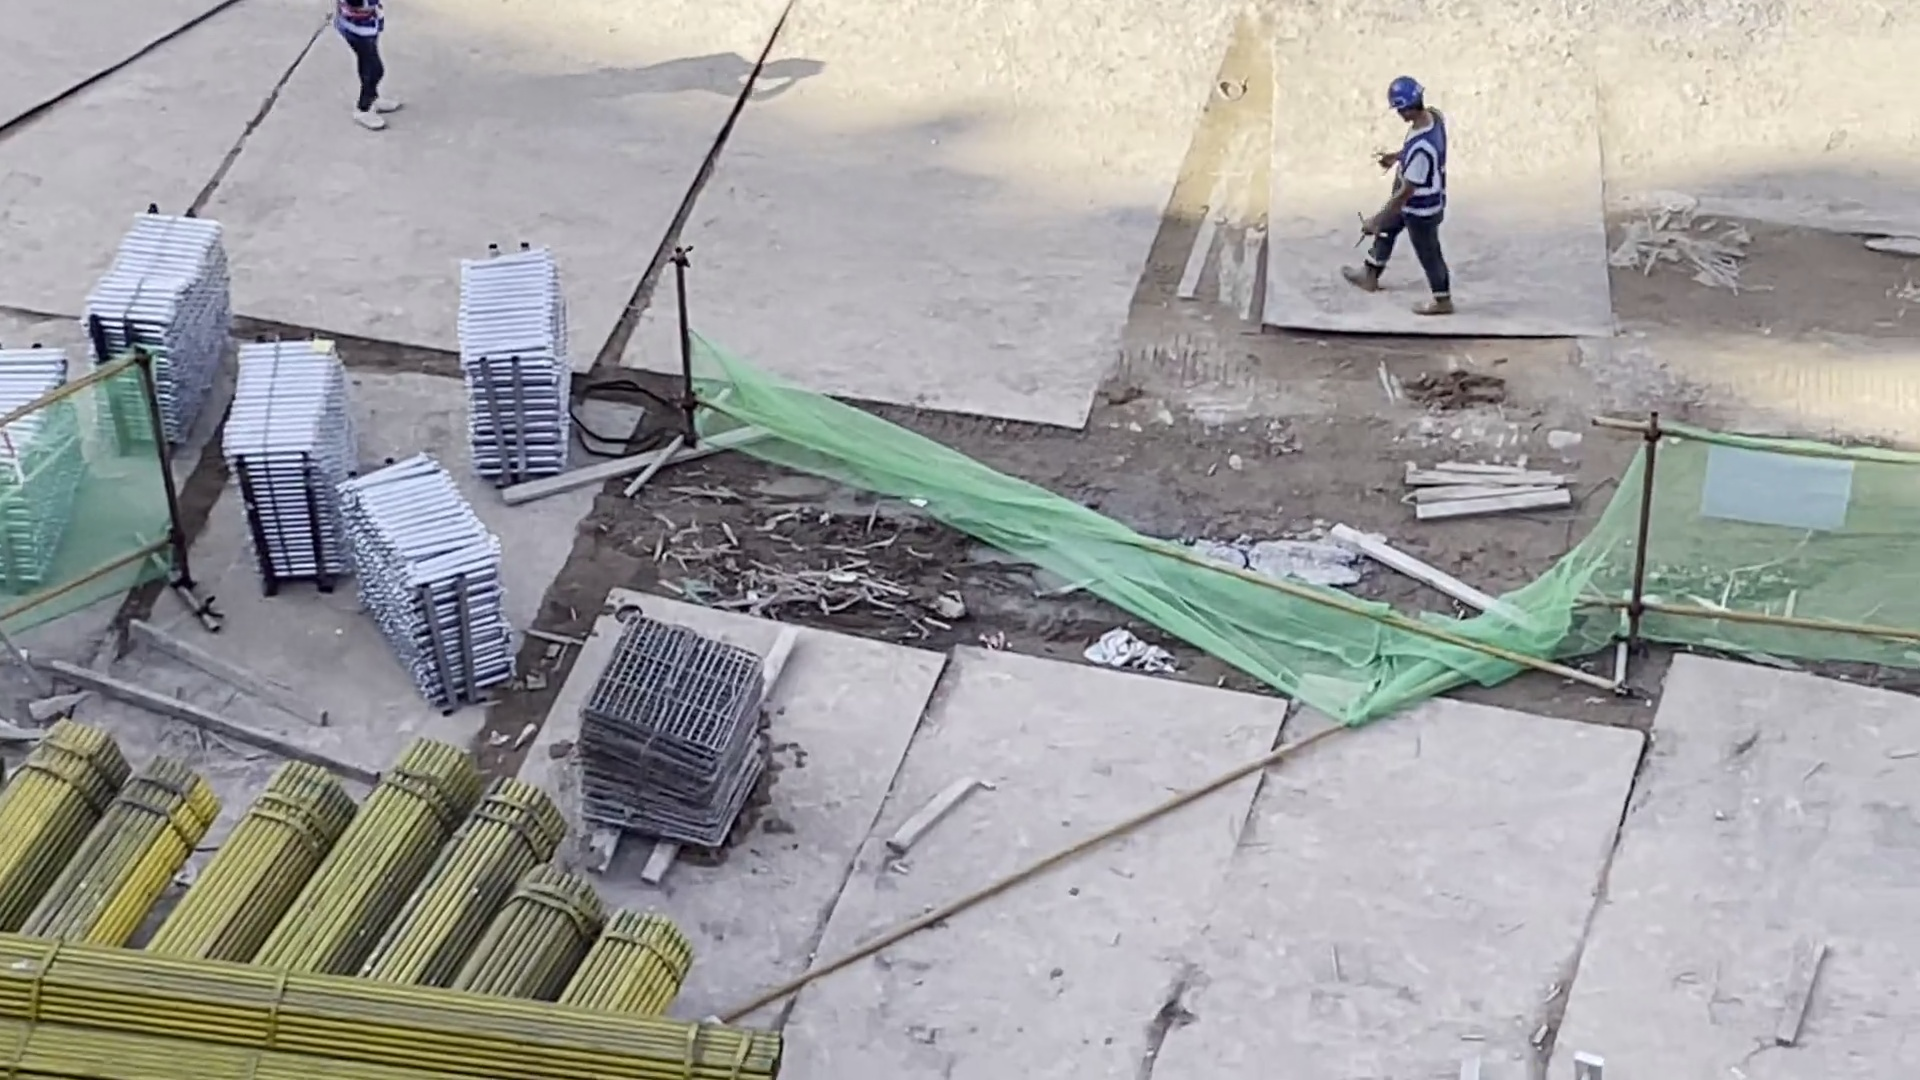helmet: (1388, 82, 1434, 124)
person: (1345, 78, 1463, 319), (319, 1, 444, 128)
scaffold: (344, 483, 519, 704), (97, 219, 234, 448), (452, 252, 572, 492), (238, 340, 353, 580), (1, 335, 94, 587)
vest: (1380, 120, 1456, 229), (325, 3, 398, 50)
